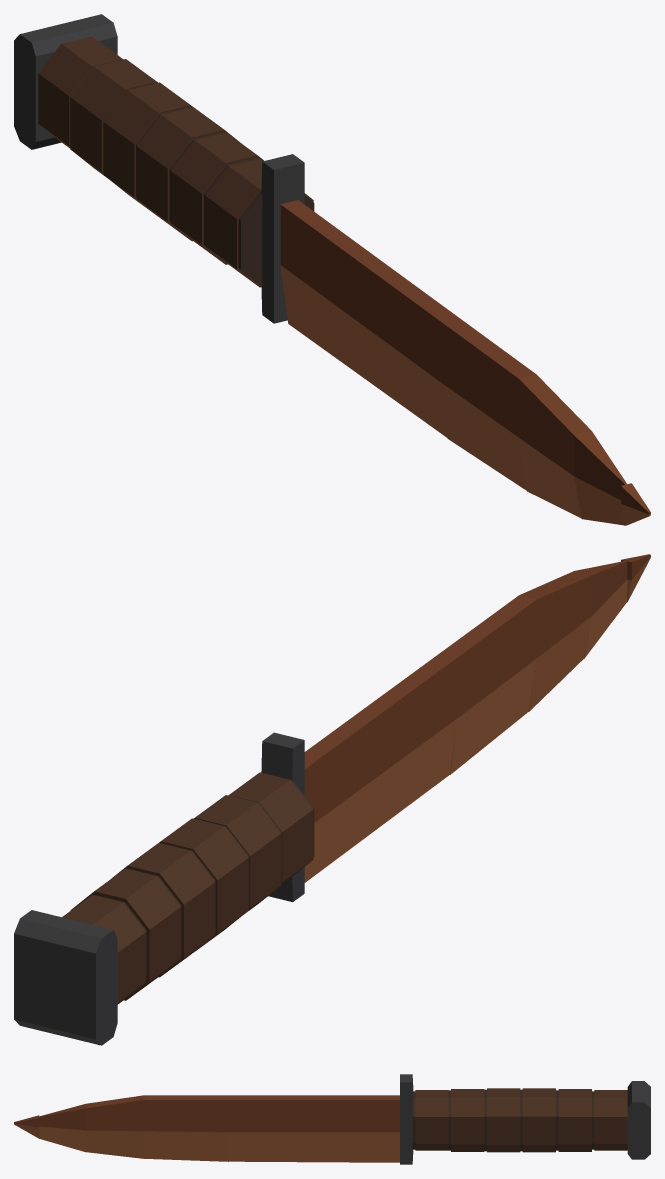
The model's file is coated-knife.glb.
3 renders of one model, top to bottom at view 1: azimuth 30°, elevation 25°; view 2: azimuth 150°, elevation 25°; view 3: azimuth 270°, elevation 25°, orthographic. The views are drawn at different scales.
Parts seen in each view (by area): view 1: coated-knife; view 2: coated-knife; view 3: coated-knife.
Part boxes in pixels (x1,y1,x2,y2): coated-knife: (14, 14, 650, 525); coated-knife: (14, 554, 650, 1045); coated-knife: (14, 1074, 650, 1164).
Bounding box in the file's own units: 0.024 × 0.044 × 0.302.
1 material, 1 textured.
